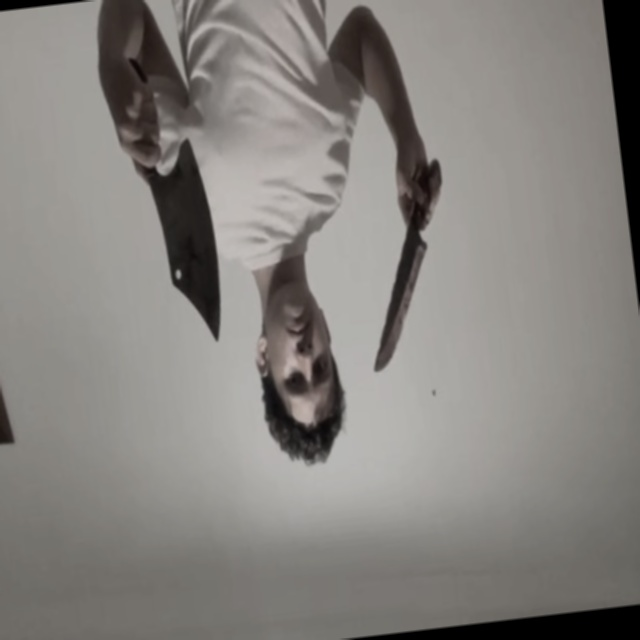Sharp-Object: (150, 135, 228, 351), (360, 238, 442, 373)
